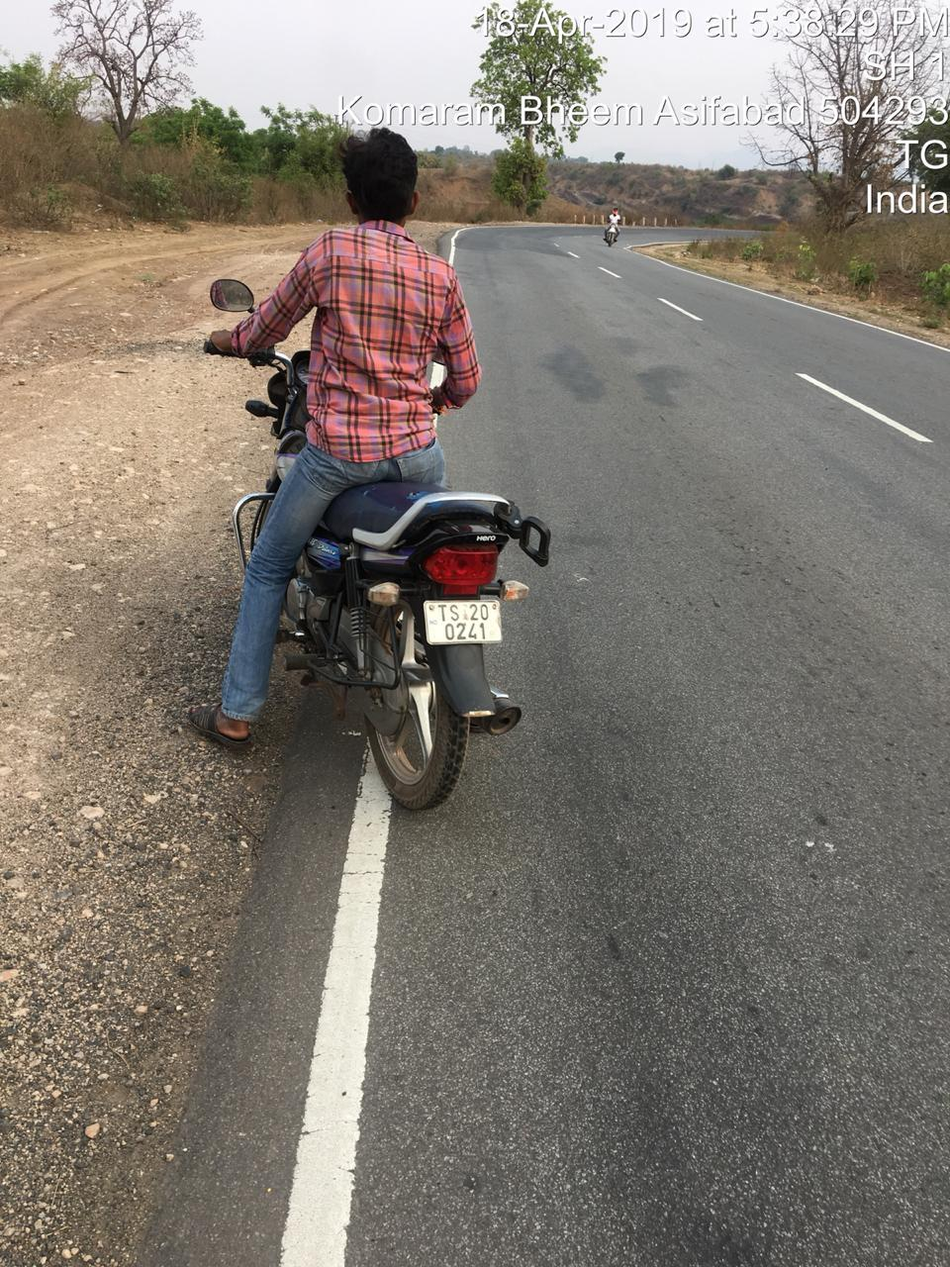plate: (402, 582, 526, 656)
